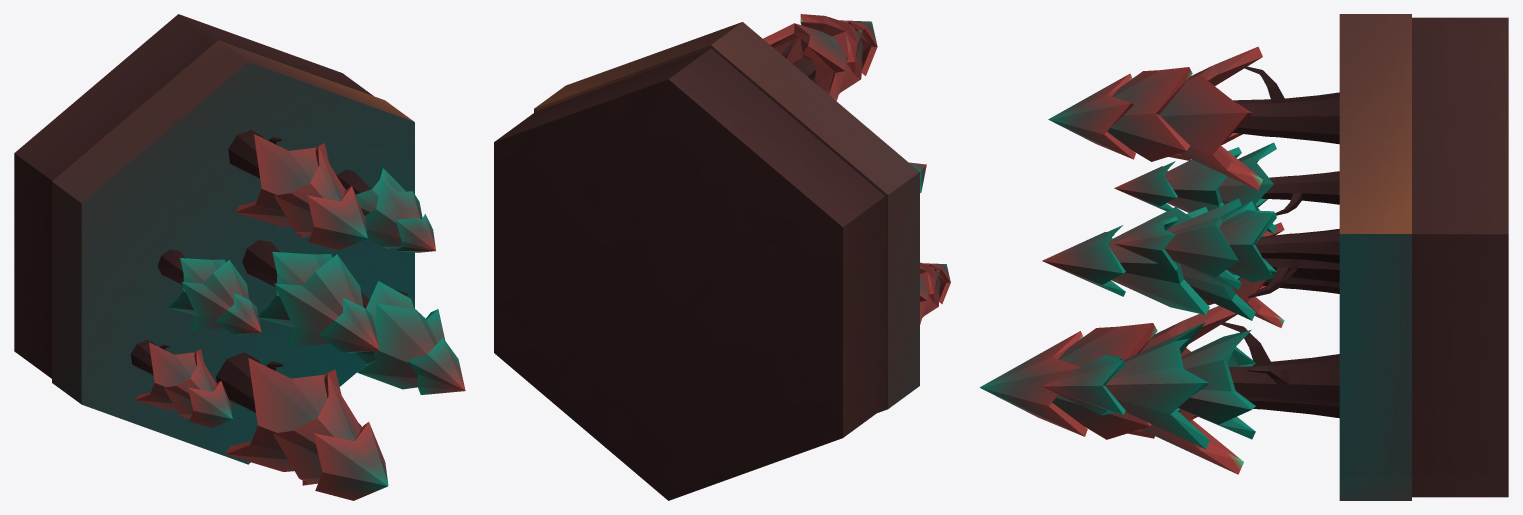
Rendered from NADELWALD_B_EX.fbx.
The picture shows the model from 3 angles, left to right: view 1: azimuth 30°, elevation 25°; view 2: azimuth 150°, elevation 25°; view 3: azimuth 270°, elevation 25°; orthographic projection. The views are drawn at different scales.
Visible parts, largest first — view 1: NADELWALD_B_EX; view 2: NADELWALD_B_EX; view 3: NADELWALD_B_EX.
Boxes of the visible parts, x1,y1,x2,y2 form: NADELWALD_B_EX: (14, 14, 465, 500); NADELWALD_B_EX: (494, 14, 950, 500); NADELWALD_B_EX: (980, 14, 1508, 500).
Bounding box in the file's own units: 172 × 199 × 196.
